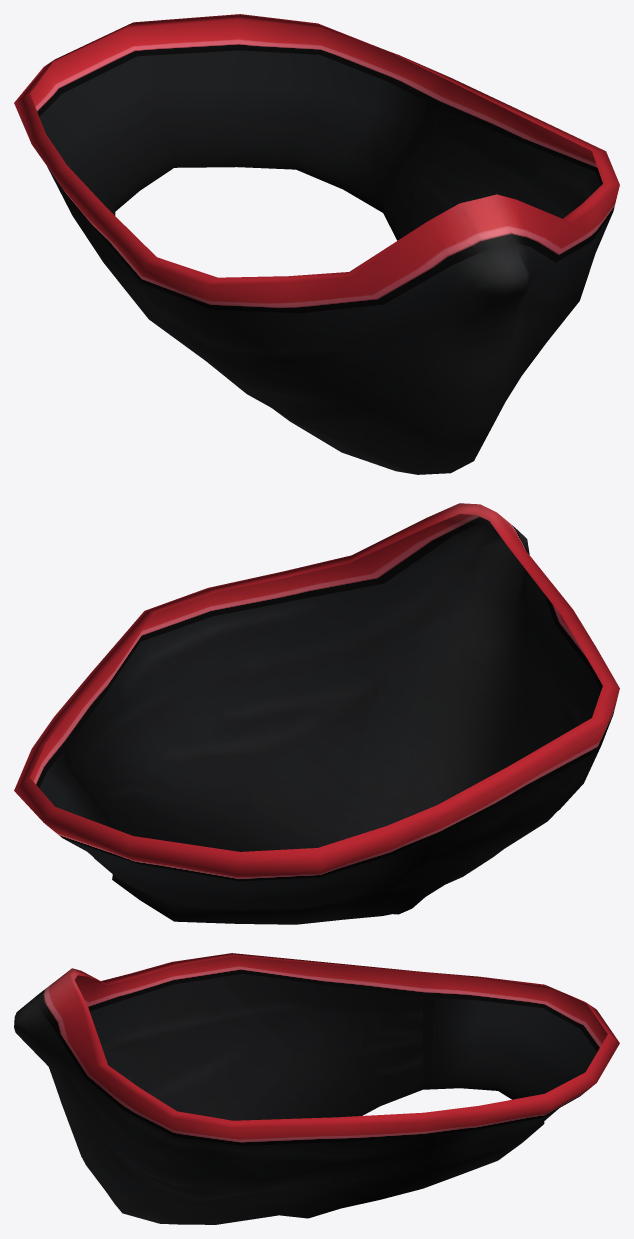
Rendered from f_mask_verizon2020.fbx.
The picture shows the model from 3 angles, top to bottom: view 1: azimuth 30°, elevation 25°; view 2: azimuth 150°, elevation 25°; view 3: azimuth 270°, elevation 25°; orthographic projection. The views are drawn at different scales.
Visible parts, largest first — view 1: f_mask_verizon2020; view 2: f_mask_verizon2020; view 3: f_mask_verizon2020.
Boxes of the visible parts, bbox=[...] form: f_mask_verizon2020: bbox=[14, 14, 619, 474]; f_mask_verizon2020: bbox=[14, 503, 619, 924]; f_mask_verizon2020: bbox=[14, 953, 619, 1224].
Bounding box in the file's own units: 8.05 × 5.17 × 11.78.
Materials: 1 (1 with a texture image).
